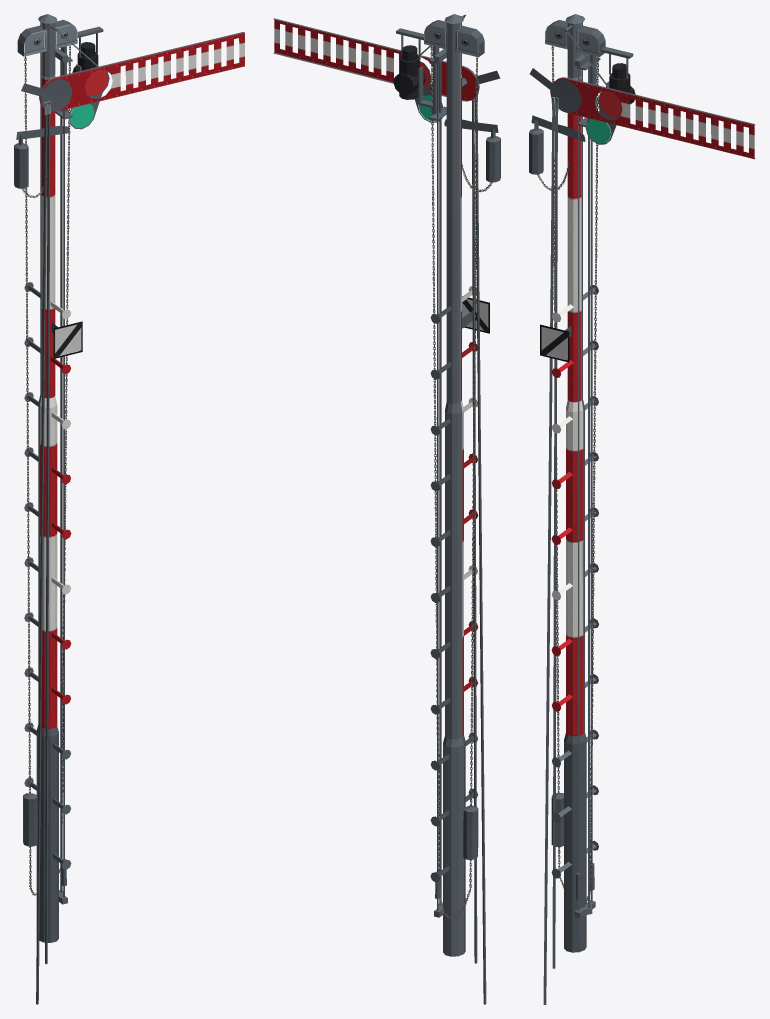
The model's file is 1rameno.obj.
3 renders of one model, left to right at view 1: azimuth 30°, elevation 25°; view 2: azimuth 150°, elevation 25°; view 3: azimuth 330°, elevation 25°, orthographic.
Visible parts, largest first — view 1: stozar, rameno_1, tahlo_2, tahlo_1, retezy, skupinove; view 2: stozar, rameno_1, retezy, tahlo_2, tahlo_1, skupinove; view 3: stozar, rameno_1, tahlo_2, retezy, tahlo_1, skupinove.
Boxes of the visible parts, left/top/right/bottom form: stozar: left=14, top=14, right=103, bottom=942; rameno_1: left=21, top=32, right=244, bottom=129; tahlo_2: left=36, top=101, right=47, bottom=1004; tahlo_1: left=45, top=100, right=50, bottom=964; retezy: left=21, top=46, right=70, bottom=895; skupinove: left=51, top=321, right=82, bottom=358; stozar: left=393, top=14, right=500, bottom=956; rameno_1: left=273, top=18, right=500, bottom=122; retezy: left=430, top=46, right=492, bottom=918; tahlo_2: left=474, top=95, right=486, bottom=1004; tahlo_1: left=471, top=98, right=477, bottom=963; skupinove: left=462, top=296, right=489, bottom=333; stozar: left=529, top=14, right=635, bottom=952; rameno_1: left=529, top=68, right=755, bottom=159; tahlo_2: left=543, top=97, right=555, bottom=1004; retezy: left=537, top=46, right=598, bottom=902; tahlo_1: left=552, top=97, right=558, bottom=968; skupinove: left=540, top=324, right=571, bottom=362.
Bounding box in the file's own units: 1.19 × 4.91 × 0.357.
